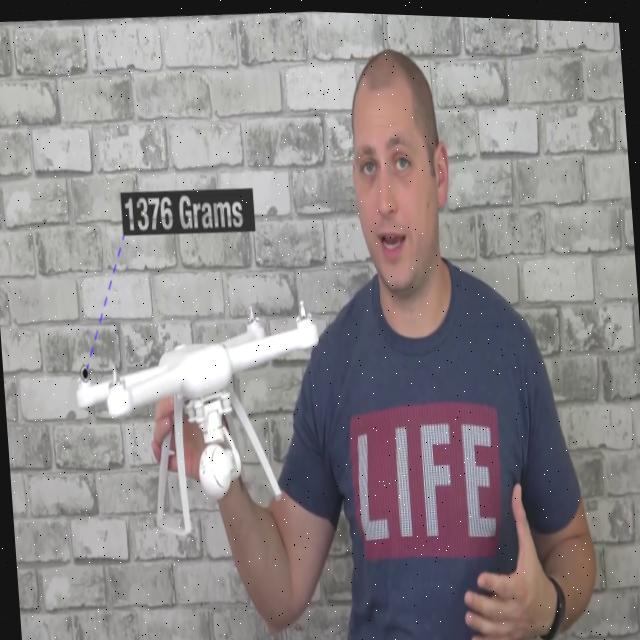drone: (66, 278, 353, 535)
